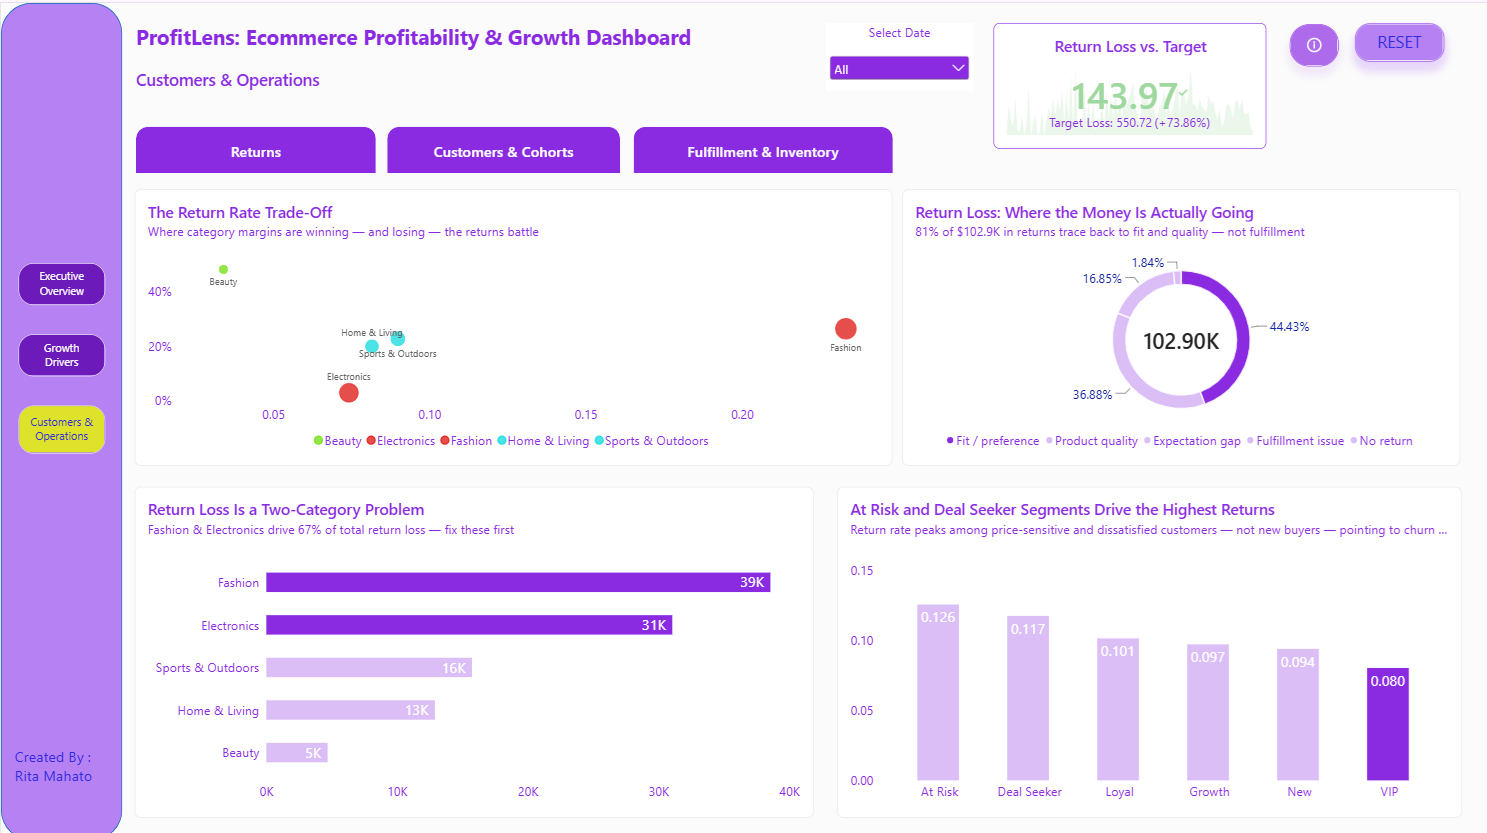

This screenshot's page, from the dashboard's own definition file:
{"tool":"powerbi","page":{"name":"Customers & Operations","canvas":[1920,1080],"ordinal":2},"visuals":[{"type":"shape","box":[0,0,156.4,1080.6],"z":0},{"type":"actionButton","box":[22,336,112,54],"z":1000},{"type":"actionButton","box":[22,428,112,54],"z":2000},{"type":"actionButton","box":[22,520,112,62],"z":3000},{"type":"actionButton","box":[1746,26,116,50],"z":4000},{"type":"textbox","box":[18.1,959.1,119.4,57.9],"z":5000},{"type":"textbox","box":[173.7,25.3,789,70.6],"z":6000},{"type":"actionButton","title":"Product Button","box":[173.7,159.3,309.5,59.7],"z":7000},{"type":"actionButton","title":"Product Button","box":[497.7,159.3,300.4,59.7],"z":8000},{"type":"actionButton","title":"Product Button","box":[816.2,159.3,334.8,59.7],"z":9000},{"type":"scatterChart","title":"The Return Rate Trade-Off","fields":{"Series":["DimProduct.Category"],"Size":["Measures (2).Return Loss"],"X":["Measures (2).Return Rate %"],"Y":["Measures (2).CM %"]},"box":[171.9,240.7,977.2,356.5],"z":10000},{"type":"donutChart","title":"Return Loss: Where the Money Is Actually Going","fields":{"Category":["DimReturnReason.ReturnReasonGroup","DimReturnReason.ReturnReason"],"Y":["Measures (2).Return Loss"]},"box":[1163.6,240.7,720.2,356.5],"z":11000},{"type":"clusteredBarChart","title":"Return Loss Is a Two-Category Problem","fields":{"Category":["DimProduct.Category"],"Y":["Measures (2).Return Loss"]},"box":[171.9,624.3,875.9,427.1],"z":12000},{"type":"clusteredColumnChart","title":"At Risk and Deal Seeker Segments Drive the Highest Returns","fields":{"Category":["DimCustomer.CustomerSegment"],"Y":["Measures (2).Return Rate %"]},"box":[1078.6,624.3,805.3,427.1],"z":13000},{"type":"kpi","title":"Return Loss vs. Target","fields":{"Goal":["Measures (2).Target Loss"],"Indicator":["Measures (2).Return Loss"],"TrendLine":["DimDate.YearWeek"]},"box":[1280,26,352,162],"z":14000},{"type":"slicer","title":"Select Date","fields":{"Values":["DimDate.YearMonth"]},"box":[1064.1,25.3,190,88],"z":15000},{"type":"actionButton","box":[1663.6,28.2,62.9,54.2],"z":22000},{"type":"textbox","title":"Page Name Text box","box":[173.7,83.2,266,45.2],"z":27000}]}

Visuals, with their boxes in screenshot pixels (x1, y1, x2, y2), scaled from the page's 1920x1080 canvas onto the 1487x833 screenshot:
shape: locate(0, 0, 121, 832)
actionButton: locate(17, 259, 104, 301)
actionButton: locate(17, 330, 104, 372)
actionButton: locate(17, 401, 104, 449)
actionButton: locate(1352, 20, 1442, 59)
textbox: locate(14, 740, 106, 784)
textbox: locate(135, 20, 746, 74)
"Product Button" actionButton: locate(135, 123, 374, 169)
"Product Button" actionButton: locate(385, 123, 618, 169)
"Product Button" actionButton: locate(632, 123, 891, 169)
"The Return Rate Trade-Off" scatterChart: locate(133, 186, 890, 461)
"Return Loss: Where the Money Is Actually Going" donutChart: locate(901, 186, 1459, 461)
"Return Loss Is a Two-Category Problem" clusteredBarChart: locate(133, 482, 811, 811)
"At Risk and Deal Seeker Segments Drive the Highest Returns" clusteredColumnChart: locate(835, 482, 1459, 811)
"Return Loss vs. Target" kpi: locate(991, 20, 1264, 145)
"Select Date" slicer: locate(824, 20, 971, 87)
actionButton: locate(1288, 22, 1337, 64)
"Page Name Text box" textbox: locate(135, 64, 341, 99)
